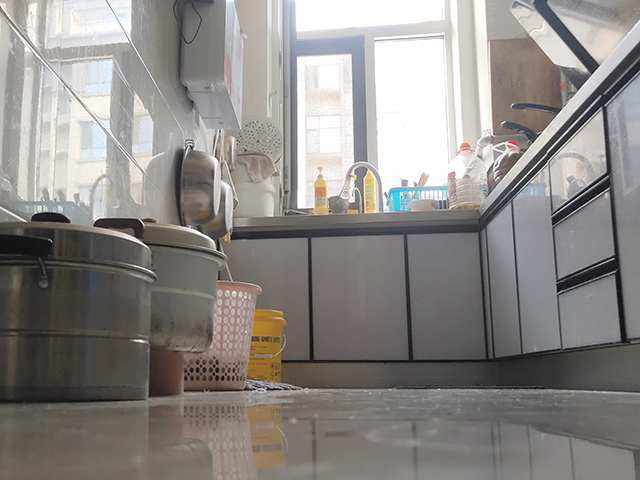cabinet: (485, 73, 639, 392), (289, 201, 483, 383)
trashcan: (179, 279, 265, 393)
